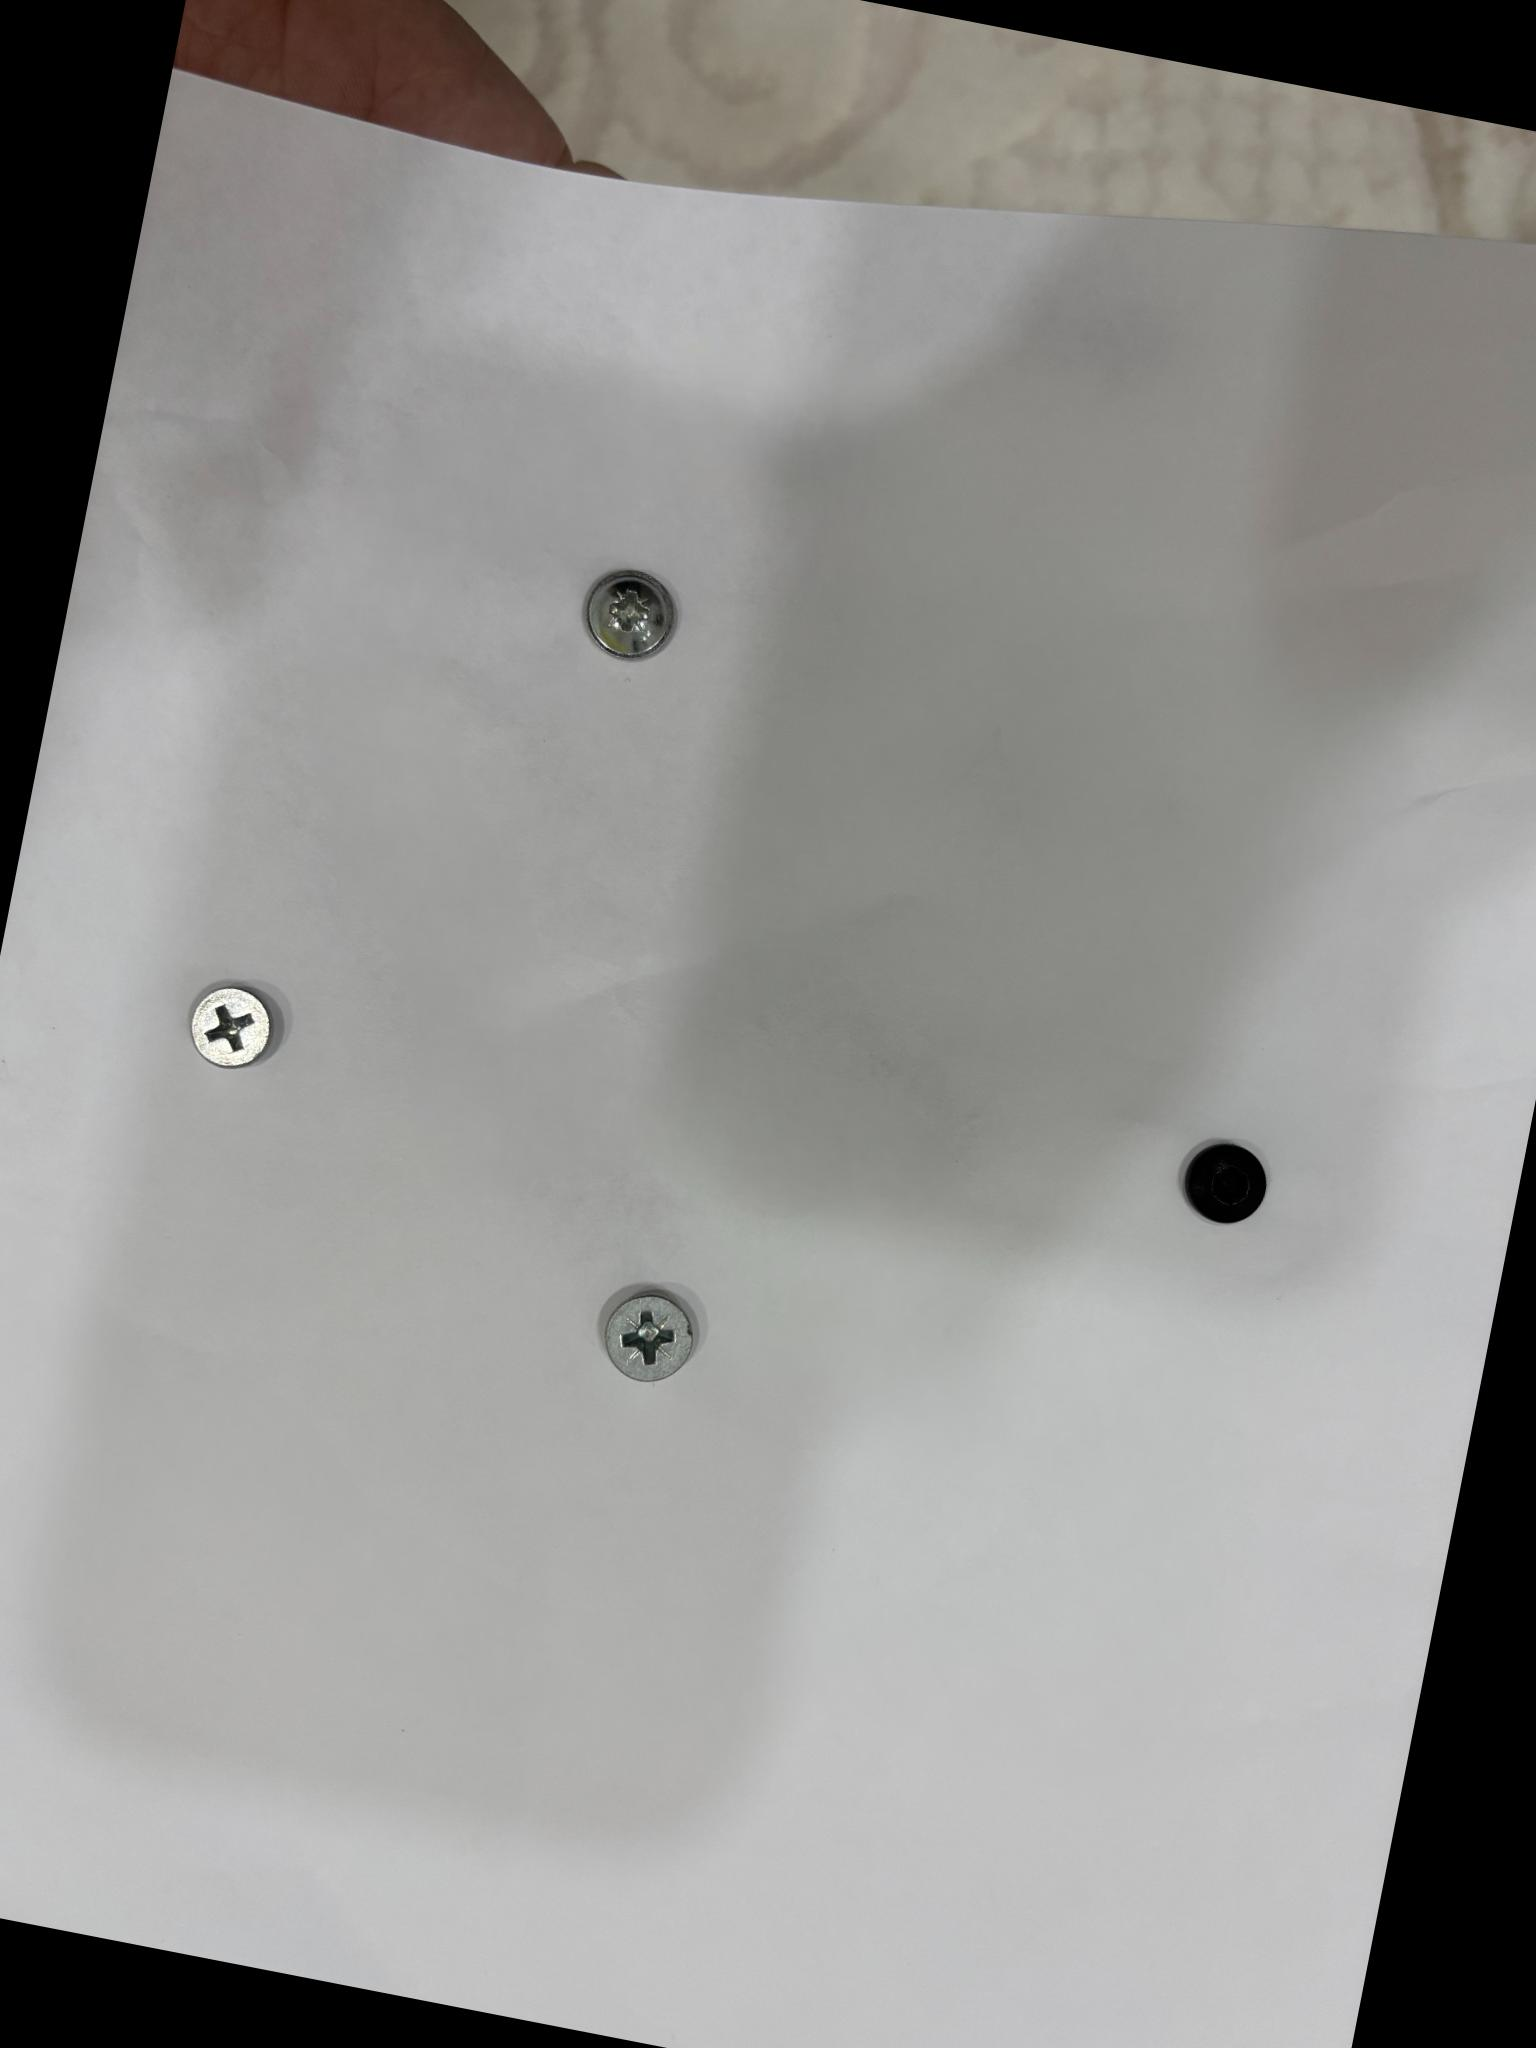H: (1182, 1141, 1265, 1221)
PH: (189, 986, 272, 1065)
PZ: (583, 570, 676, 658), (604, 1291, 693, 1380)
